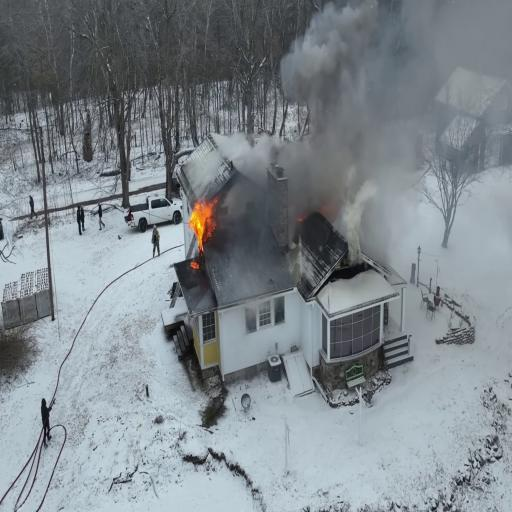fire: (189, 198, 218, 248)
smoke: (303, 151, 352, 219)
